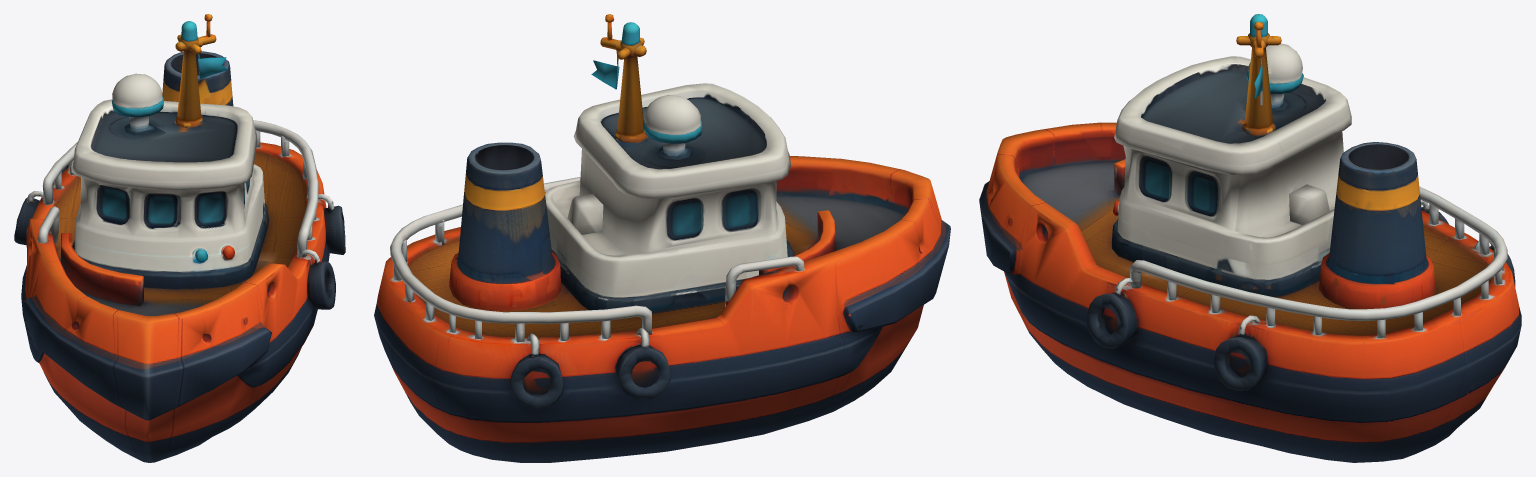
File: player-icebreaker.glb
The picture shows the model from 3 angles, left to right: view 1: azimuth 30°, elevation 25°; view 2: azimuth 150°, elevation 25°; view 3: azimuth 270°, elevation 25°; orthographic projection. The views are drawn at different scales.
Visible parts, largest first — view 1: tripo_node_a0fc81b9-a74c-4b69-b926-88349c5bbc42; view 2: tripo_node_a0fc81b9-a74c-4b69-b926-88349c5bbc42; view 3: tripo_node_a0fc81b9-a74c-4b69-b926-88349c5bbc42.
Boxes of the visible parts, box(x1,y1,x2,y2) form: tripo_node_a0fc81b9-a74c-4b69-b926-88349c5bbc42: box(14, 14, 345, 462); tripo_node_a0fc81b9-a74c-4b69-b926-88349c5bbc42: box(374, 14, 950, 462); tripo_node_a0fc81b9-a74c-4b69-b926-88349c5bbc42: box(979, 14, 1521, 462).
Size of the model in its own units: 0.8848 by 0.8066 by 0.998.
1 material, 1 textured.
